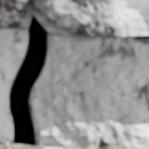brick: (0, 140, 42, 148), (96, 147, 116, 148)
broken_brick: (0, 0, 148, 38)
crack: (0, 2, 51, 146)
